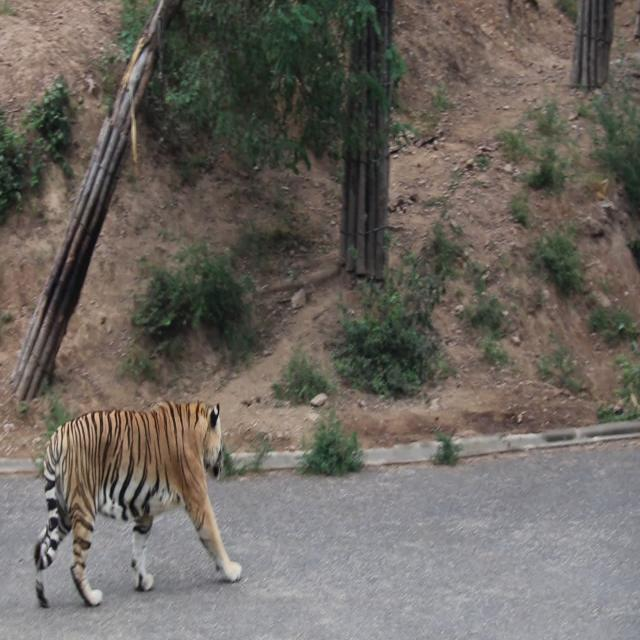Tiger: (25, 359, 256, 603)
